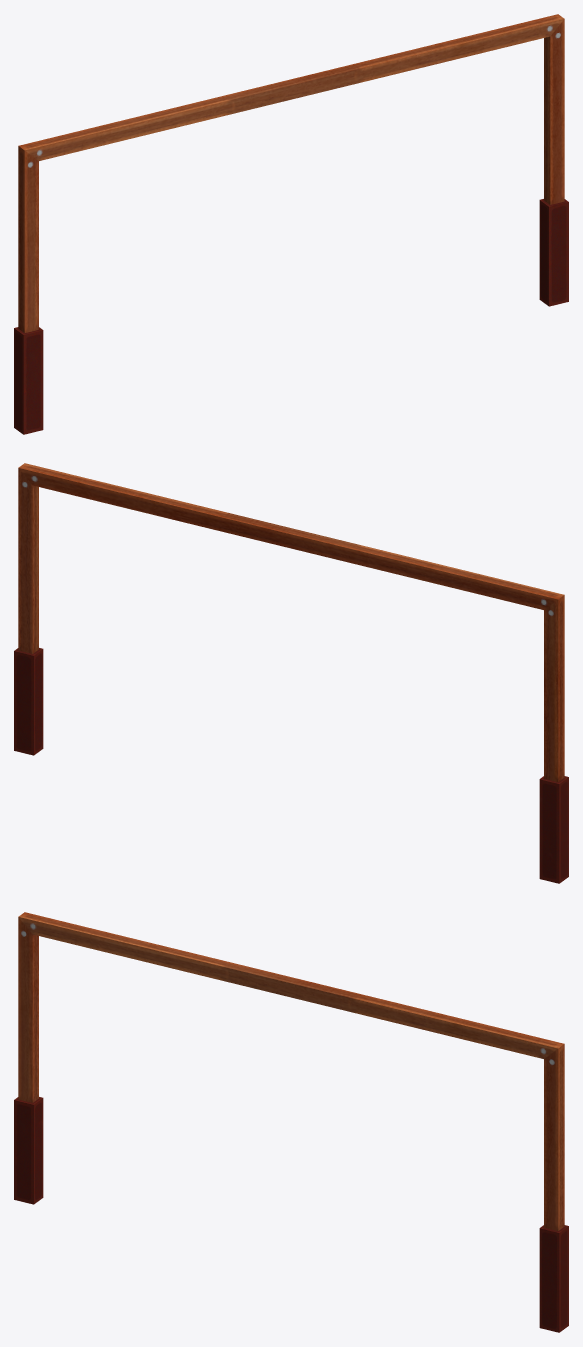
The model's file is horizontalLeg.glb.
The picture shows the model from 3 angles, top to bottom: view 1: azimuth 30°, elevation 25°; view 2: azimuth 150°, elevation 25°; view 3: azimuth 330°, elevation 25°; orthographic projection.
Parts seen in each view (by area): view 1: Khung_ngang.001; view 2: Khung_ngang.001; view 3: Khung_ngang.001.
Part boxes in pixels (<box>): Khung_ngang.001: <box>14,14,568,434</box>; Khung_ngang.001: <box>14,463,568,883</box>; Khung_ngang.001: <box>14,912,568,1332</box>.
Bounding box in the file's own units: 4.57 × 2.26 × 0.1397.
1 material, 1 textured.
